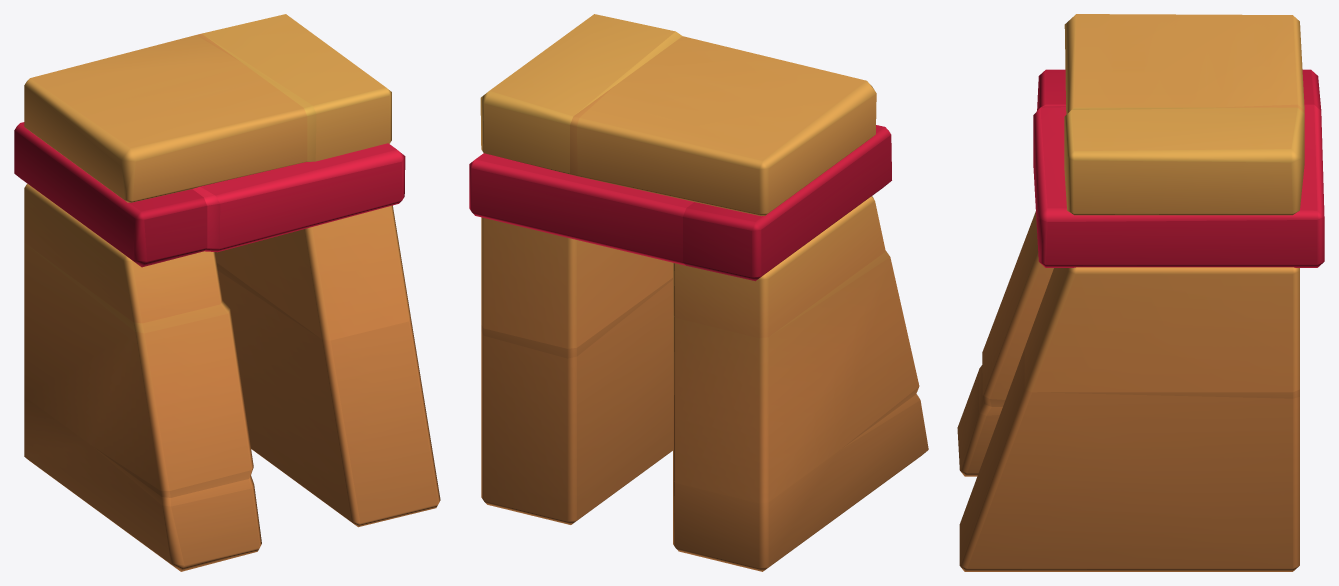
File: wall_deco_1.fbx
The picture shows the model from 3 angles, left to right: view 1: azimuth 30°, elevation 25°; view 2: azimuth 150°, elevation 25°; view 3: azimuth 270°, elevation 25°; orthographic projection. The views are drawn at different scales.
Visible parts, largest first — view 1: wall_deco_1; view 2: wall_deco_1; view 3: wall_deco_1.
Part boxes in pixels (<box>): wall_deco_1: <box>14,14,440,571</box>; wall_deco_1: <box>469,14,928,571</box>; wall_deco_1: <box>957,14,1324,571</box>.
Bounding box in the file's own units: 305 × 415 × 325.
